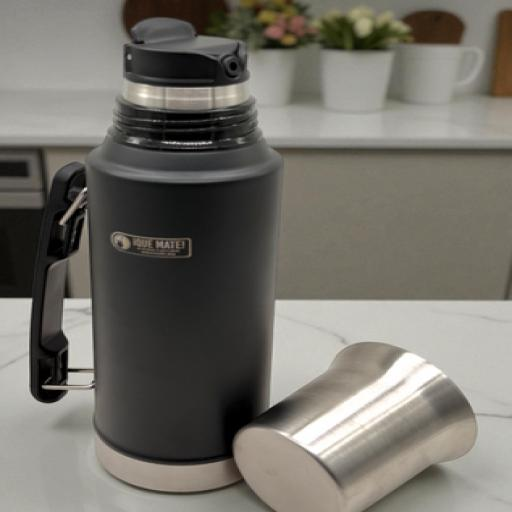termo: (31, 21, 282, 491)
